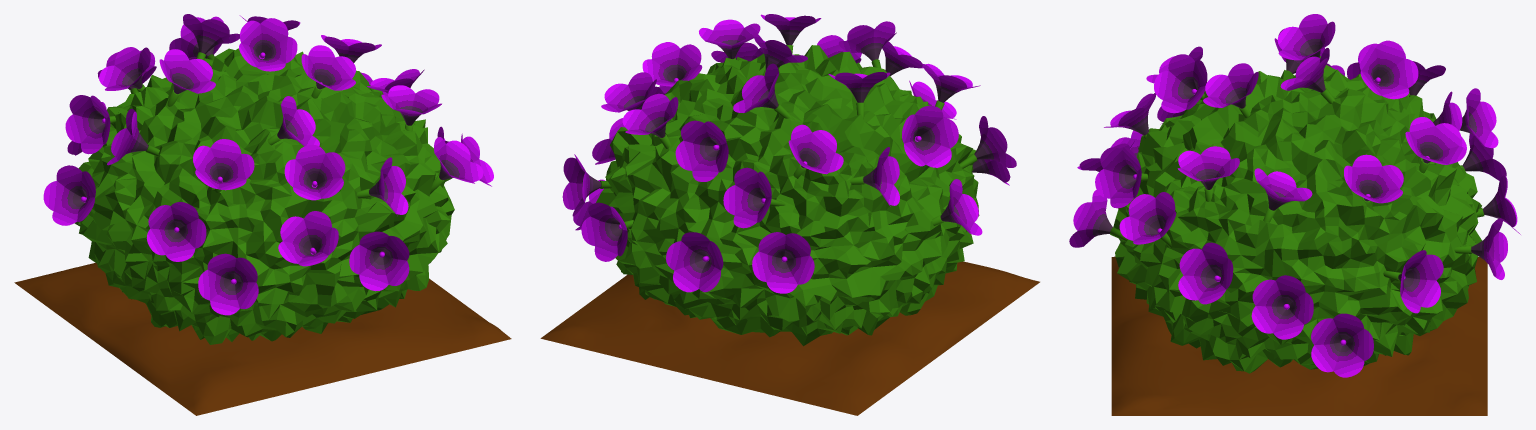
The model's file is petunia-p4-bloom.glb.
3 views of the same model, side by side, from view 1: azimuth 30°, elevation 25°; view 2: azimuth 150°, elevation 25°; view 3: azimuth 270°, elevation 25° (orthographic). The views are drawn at different scales.
Visible parts, largest first — view 1: 4_nft_bloom; view 2: 4_nft_bloom; view 3: 4_nft_bloom.
Boxes of the visible parts, box(x1,y1,x2,y2) form: 4_nft_bloom: box(14, 14, 511, 415); 4_nft_bloom: box(540, 14, 1039, 415); 4_nft_bloom: box(1069, 14, 1520, 415).
Bounding box in the file's own units: 0.8766 × 0.5912 × 0.8418.
Materials: 3 (1 with a texture image).
